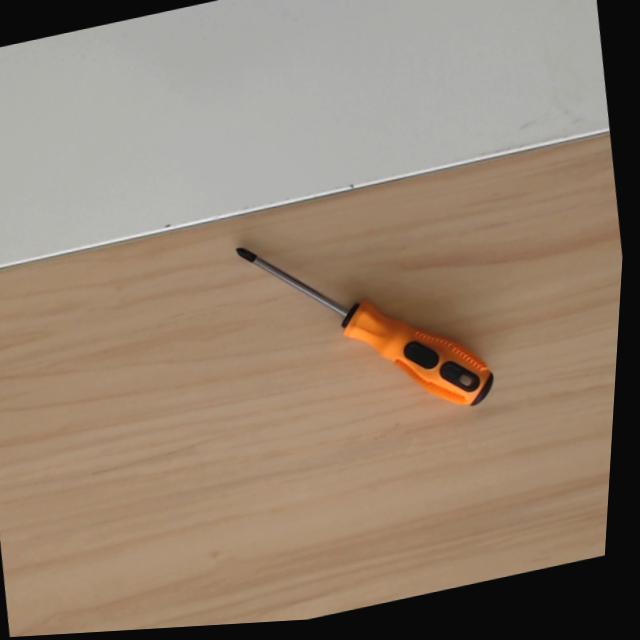Obeng-Besar: (215, 240, 500, 414)
